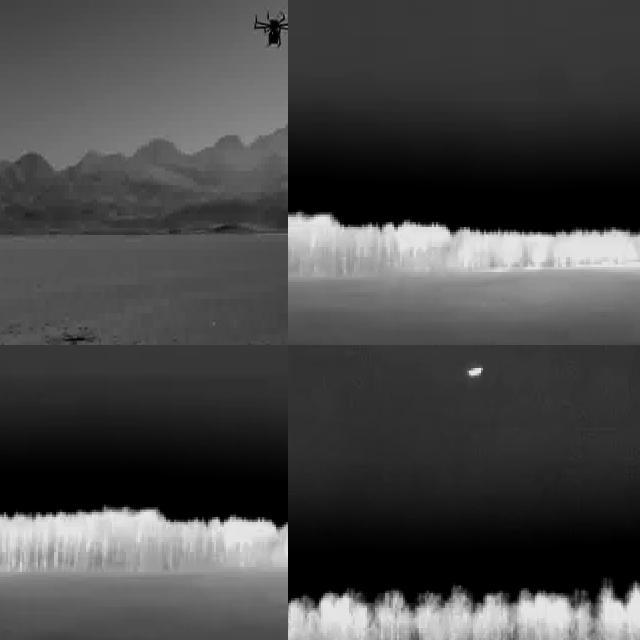1: (458, 360, 494, 390)
drone: (249, 7, 288, 51)
